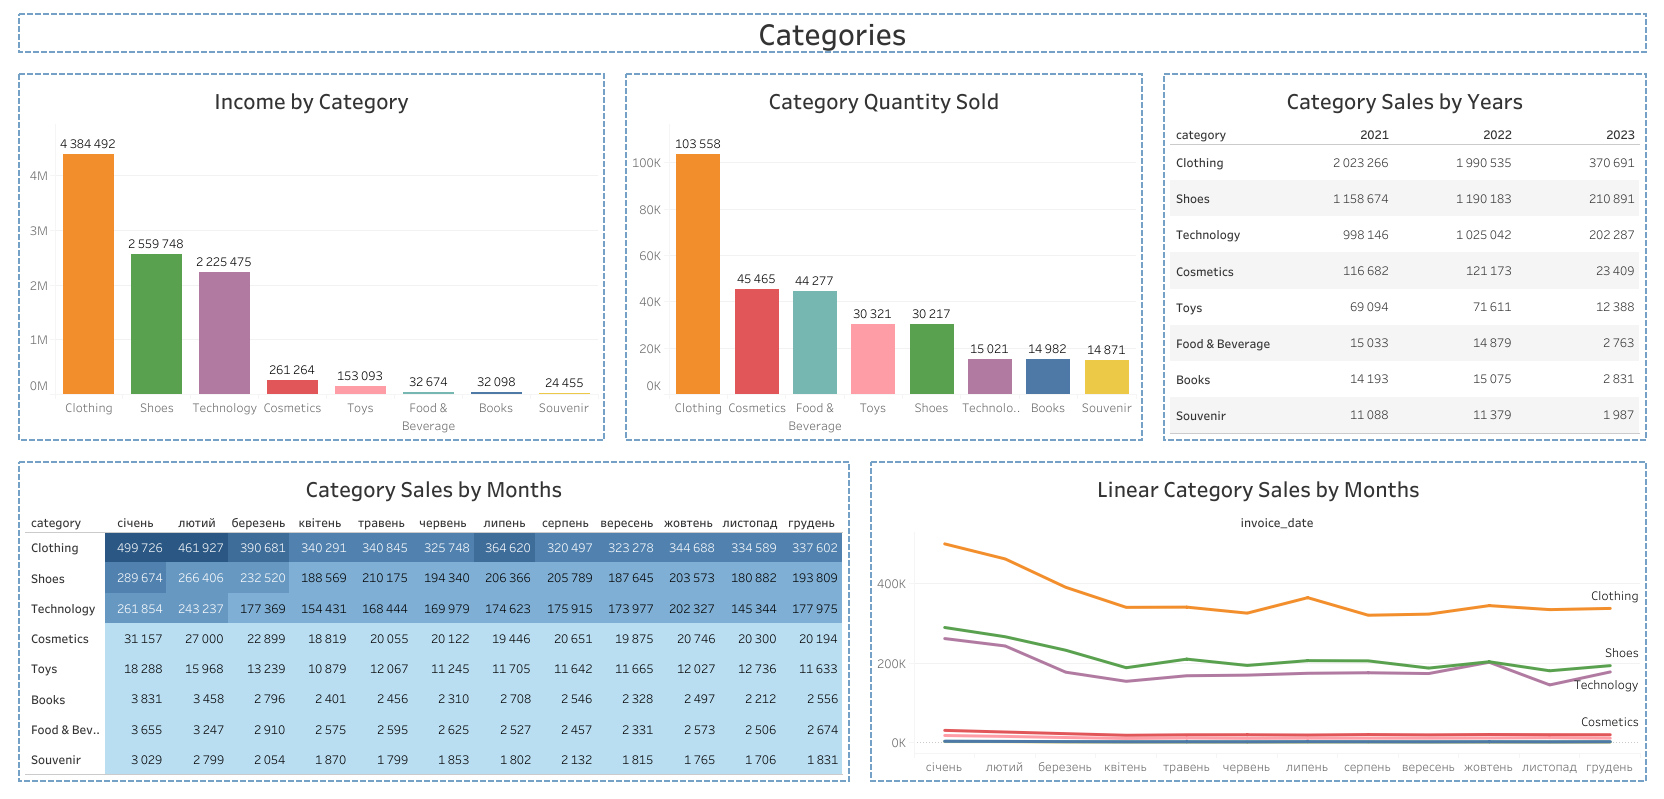

What the dashboard file says about the page in this screenshot:
{"tool":"tableau","page":{"name":"Categories","canvas":[1665,800],"ordinal":1},"visuals":[{"type":"title","box":[8,8,1649,55]},{"type":"worksheet","title":"category_income","mark":"Automatic","rows":["Calculation_1055569032224863"],"cols":["category"],"box":[8,63,607,387.8]},{"type":"worksheet","title":"category_quantity","mark":"Automatic","rows":["quantity"],"cols":["category"],"box":[615,63,538,387.8]},{"type":"worksheet","title":"category_sales_years","mark":"Automatic","rows":["category"],"cols":["invoice_date"],"box":[1153,63,504,387.8]},{"type":"worksheet","title":"category_sales_months","mark":"Square","rows":["category"],"cols":["invoice_date"],"box":[8,450.8,852,341.2]},{"type":"worksheet","title":"category_sales_linear","mark":"Automatic","rows":["Calculation_1055569032224863"],"cols":["invoice_date"],"box":[860,450.8,797,341.2]}]}

Visuals, with their boxes in screenshot pixels (x1, y1, x2, y2), scaled from the page's 1665x800 canvas onto the 1664x799 screenshot:
title: 8/8/1656/63
"category_income" worksheet: 8/63/615/450
"category_quantity" worksheet: 615/63/1152/450
"category_sales_years" worksheet: 1152/63/1656/450
"category_sales_months" worksheet (Square marks): 8/450/859/791
"category_sales_linear" worksheet: 859/450/1656/791
